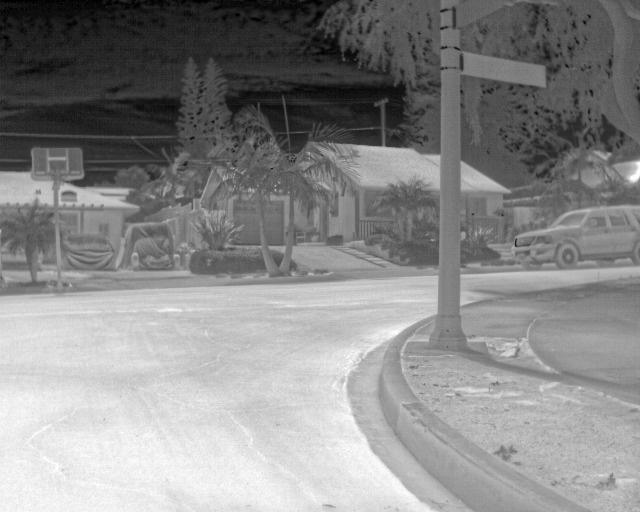car: (510, 202, 639, 273)
